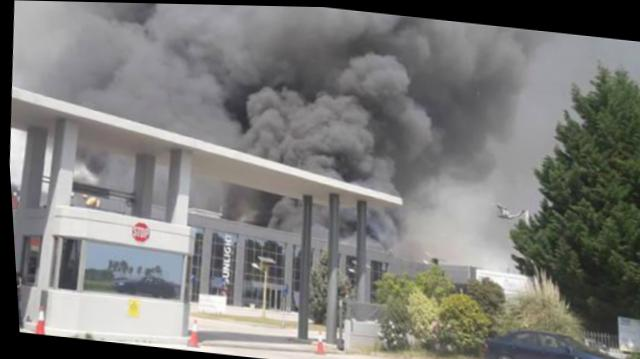smoke: (10, 0, 561, 138), (58, 86, 533, 163), (191, 127, 532, 187), (309, 162, 531, 193), (365, 211, 505, 258), (385, 181, 530, 207), (215, 184, 297, 225), (401, 197, 491, 223), (75, 150, 135, 184), (333, 205, 358, 241), (306, 201, 326, 234)
